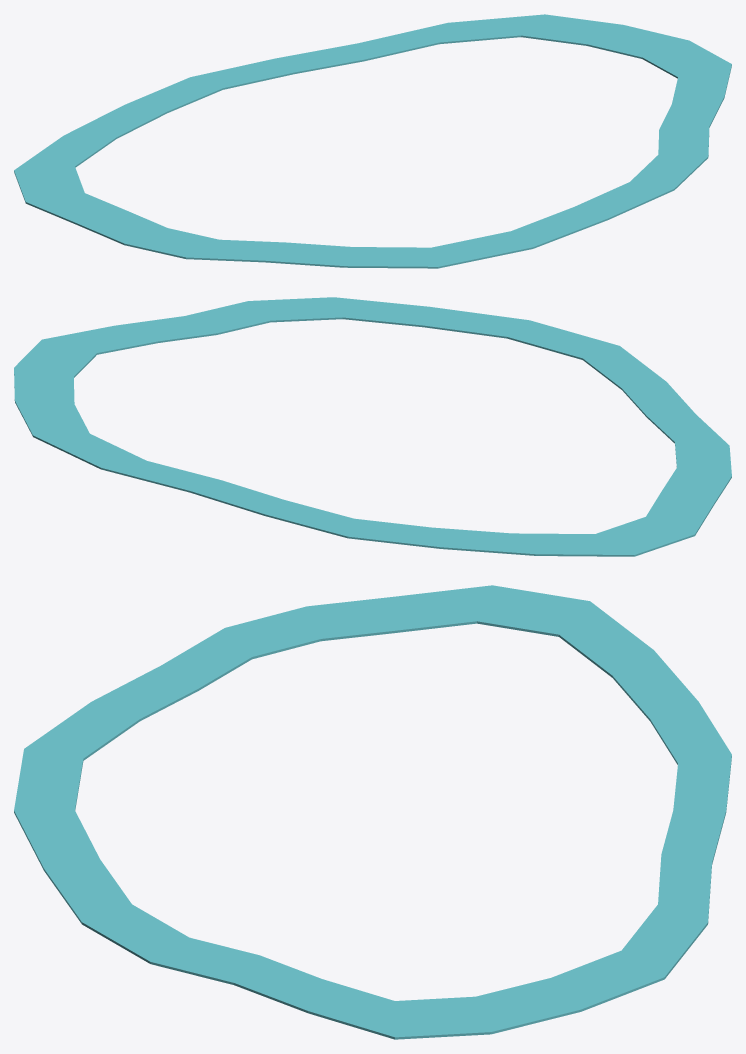
3 renders of one model, top to bottom at view 1: azimuth 30°, elevation 25°; view 2: azimuth 150°, elevation 25°; view 3: azimuth 270°, elevation 25°, orthographic. The views are drawn at different scales.
Parts seen in each view (by area): view 1: 水潭_浅水环1.001; view 2: 水潭_浅水环1.001; view 3: 水潭_浅水环1.001.
Boxes of the visible parts, box(x1,y1,x2,y2) form: 水潭_浅水环1.001: box(14, 14, 731, 268); 水潭_浅水环1.001: box(14, 297, 731, 556); 水潭_浅水环1.001: box(14, 585, 731, 1039).
Size of the model in its own units: 1.68 by 0.004 by 1.13.
